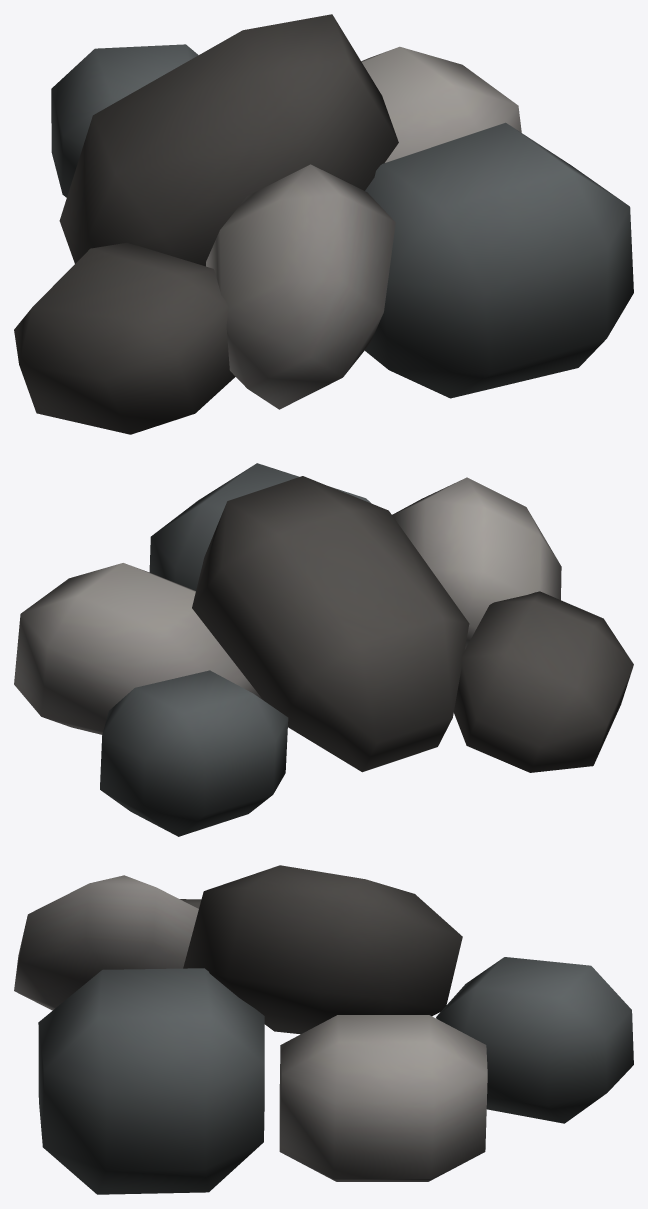
File: PebbleGroup_A.fbx
3 views of the same model, one above another, from view 1: azimuth 30°, elevation 25°; view 2: azimuth 150°, elevation 25°; view 3: azimuth 270°, elevation 25° (orthographic). The views are drawn at different scales.
Parts seen in each view (by area): view 1: PebbleGroup_A; view 2: PebbleGroup_A; view 3: PebbleGroup_A.
Boxes of the visible parts, x1=… form: PebbleGroup_A: x1=14, y1=14, x2=633, y2=434; PebbleGroup_A: x1=14, y1=463, x2=633, y2=836; PebbleGroup_A: x1=14, y1=865, x2=633, y2=1194.
Size of the model in its own units: 26.14 by 12.38 by 28.09.
